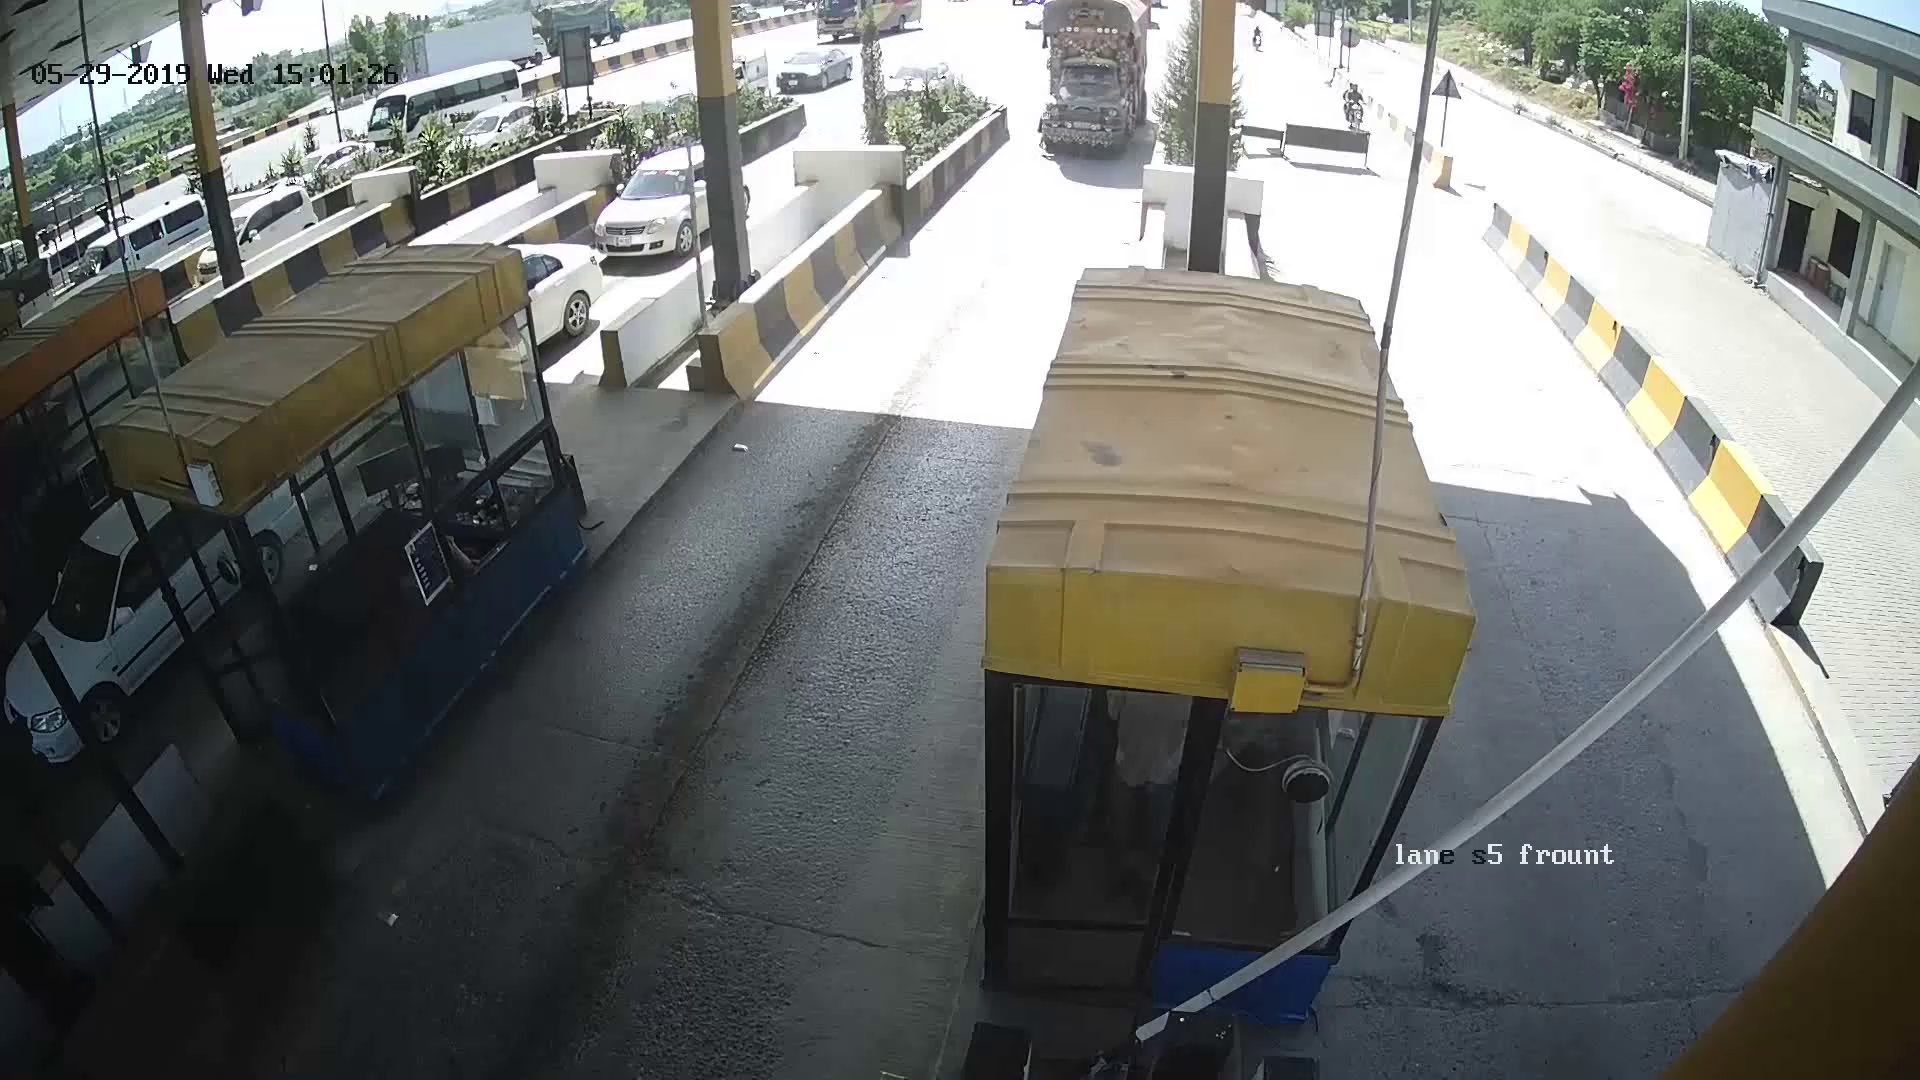truck: (1019, 16, 1149, 174)
